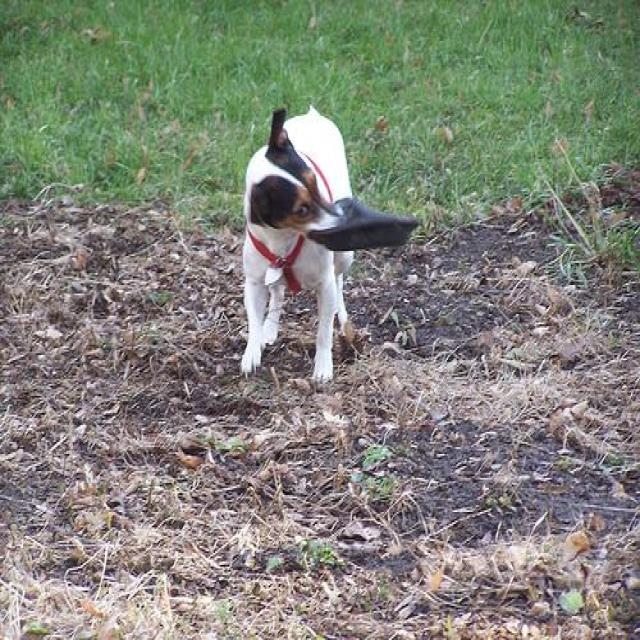toy_terrier: (234, 90, 357, 386)
